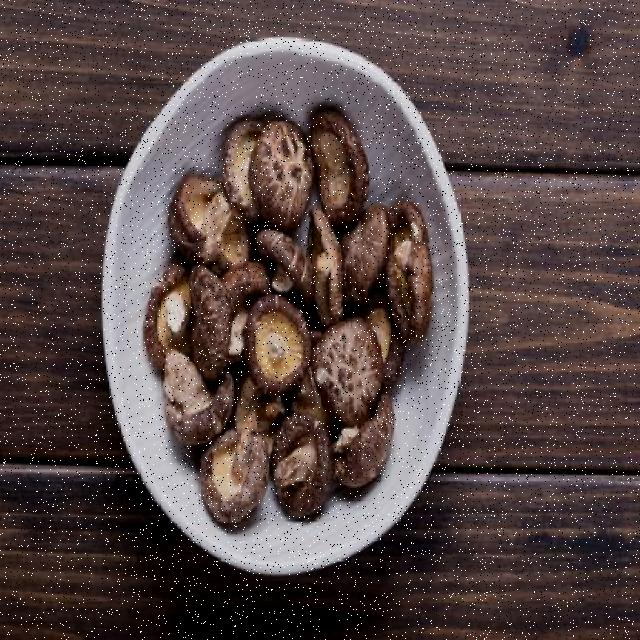Mushroom: (169, 245, 253, 386), (308, 294, 390, 434), (240, 103, 312, 235)
